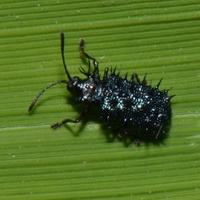insect: (28, 32, 174, 144)
